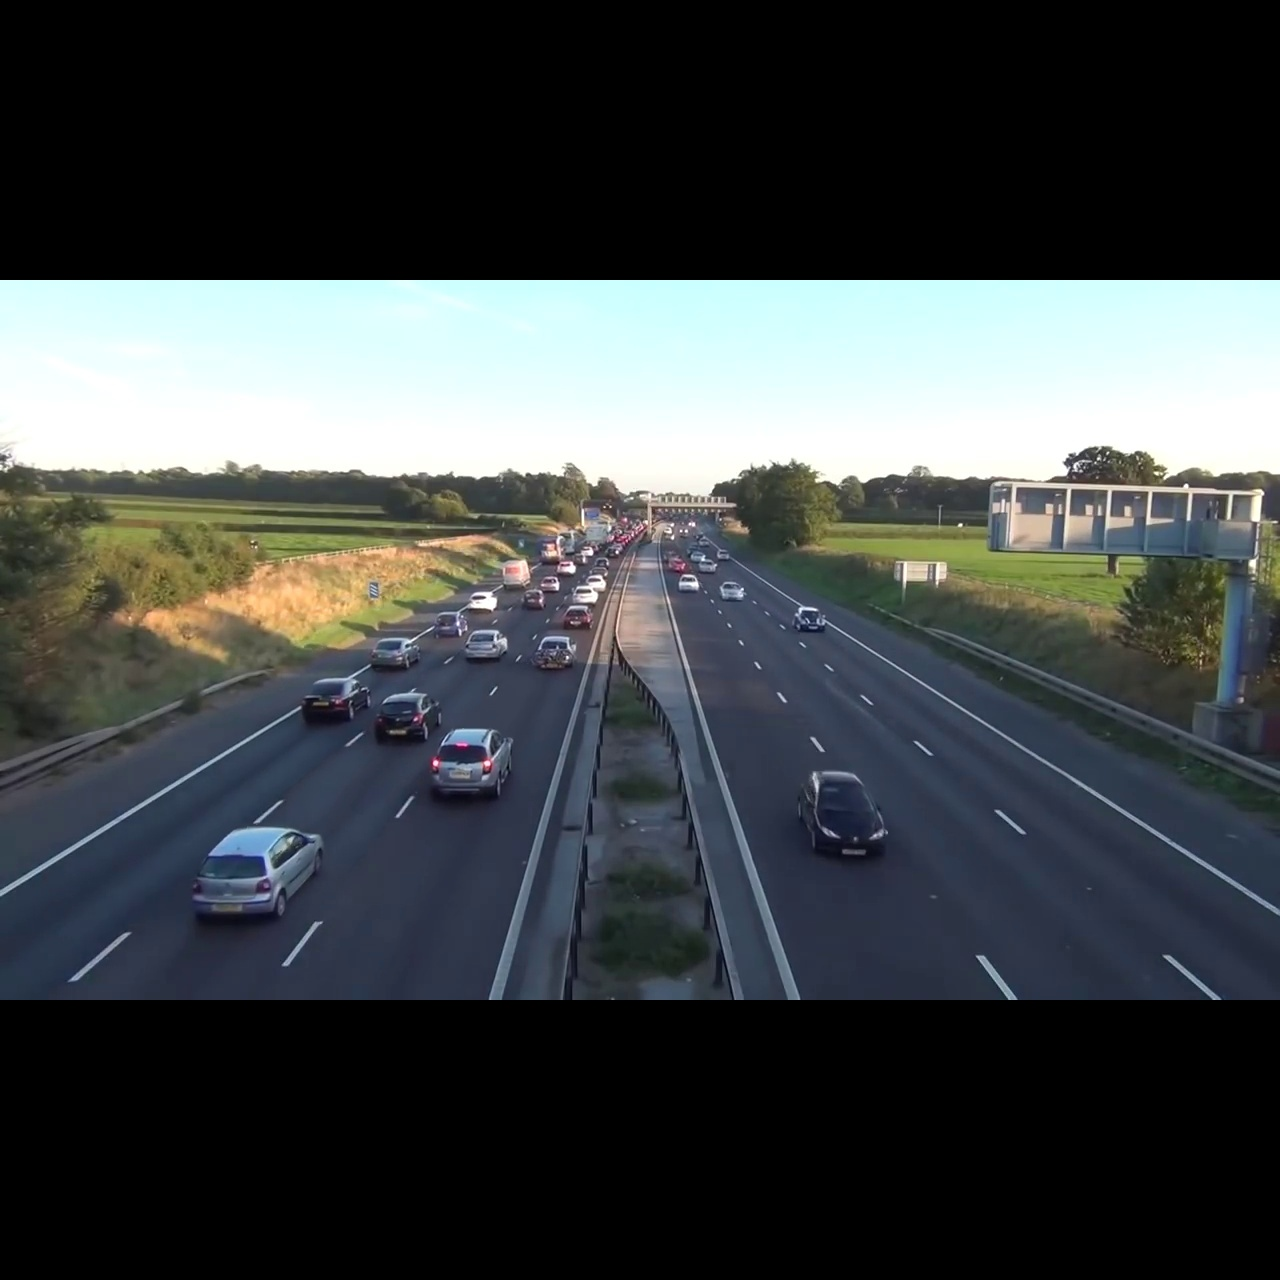vehicle: (183, 816, 333, 930), (794, 765, 892, 865), (428, 724, 517, 802), (297, 674, 375, 728), (373, 690, 445, 743), (530, 634, 581, 673), (368, 636, 421, 670), (463, 628, 510, 662), (431, 610, 470, 639), (791, 602, 828, 633), (560, 604, 595, 631), (502, 559, 533, 588), (467, 591, 501, 613), (717, 580, 745, 602), (520, 590, 549, 610), (675, 573, 700, 594), (540, 576, 561, 592)
